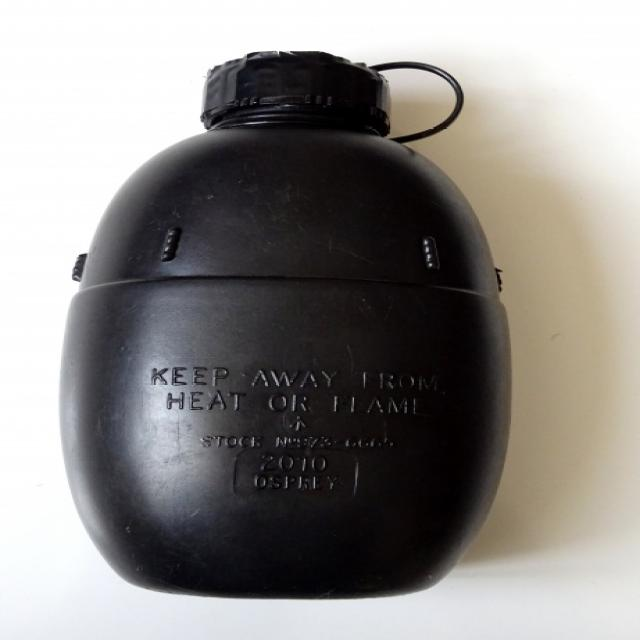plastic_bottle: (58, 48, 514, 601)
